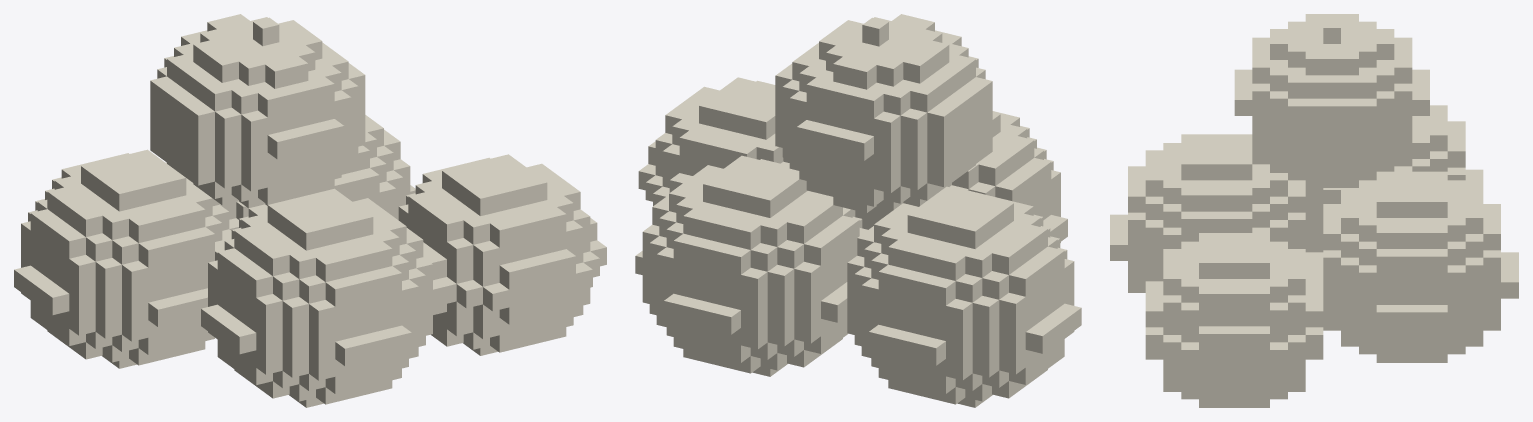
File: cotton_ball.glb
3 views of the same model, side by side, from view 1: azimuth 30°, elevation 25°; view 2: azimuth 150°, elevation 25°; view 3: azimuth 270°, elevation 25° (orthographic). The views are drawn at different scales.
Parts seen in each view (by area): view 1: cotton_ball:compound; view 2: cotton_ball:compound; view 3: cotton_ball:compound.
Boxes of the visible parts, x1,y1,x2,y2 form: cotton_ball:compound: (14,14,606,407); cotton_ball:compound: (635,14,1081,407); cotton_ball:compound: (1110,14,1518,407).
Bounding box in the file's own units: 0.056 × 0.036 × 0.046.
